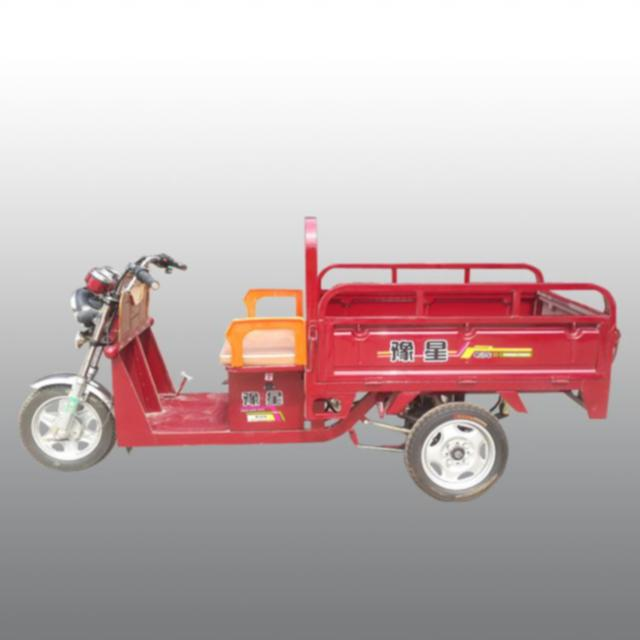tricycle: (18, 211, 624, 504)
